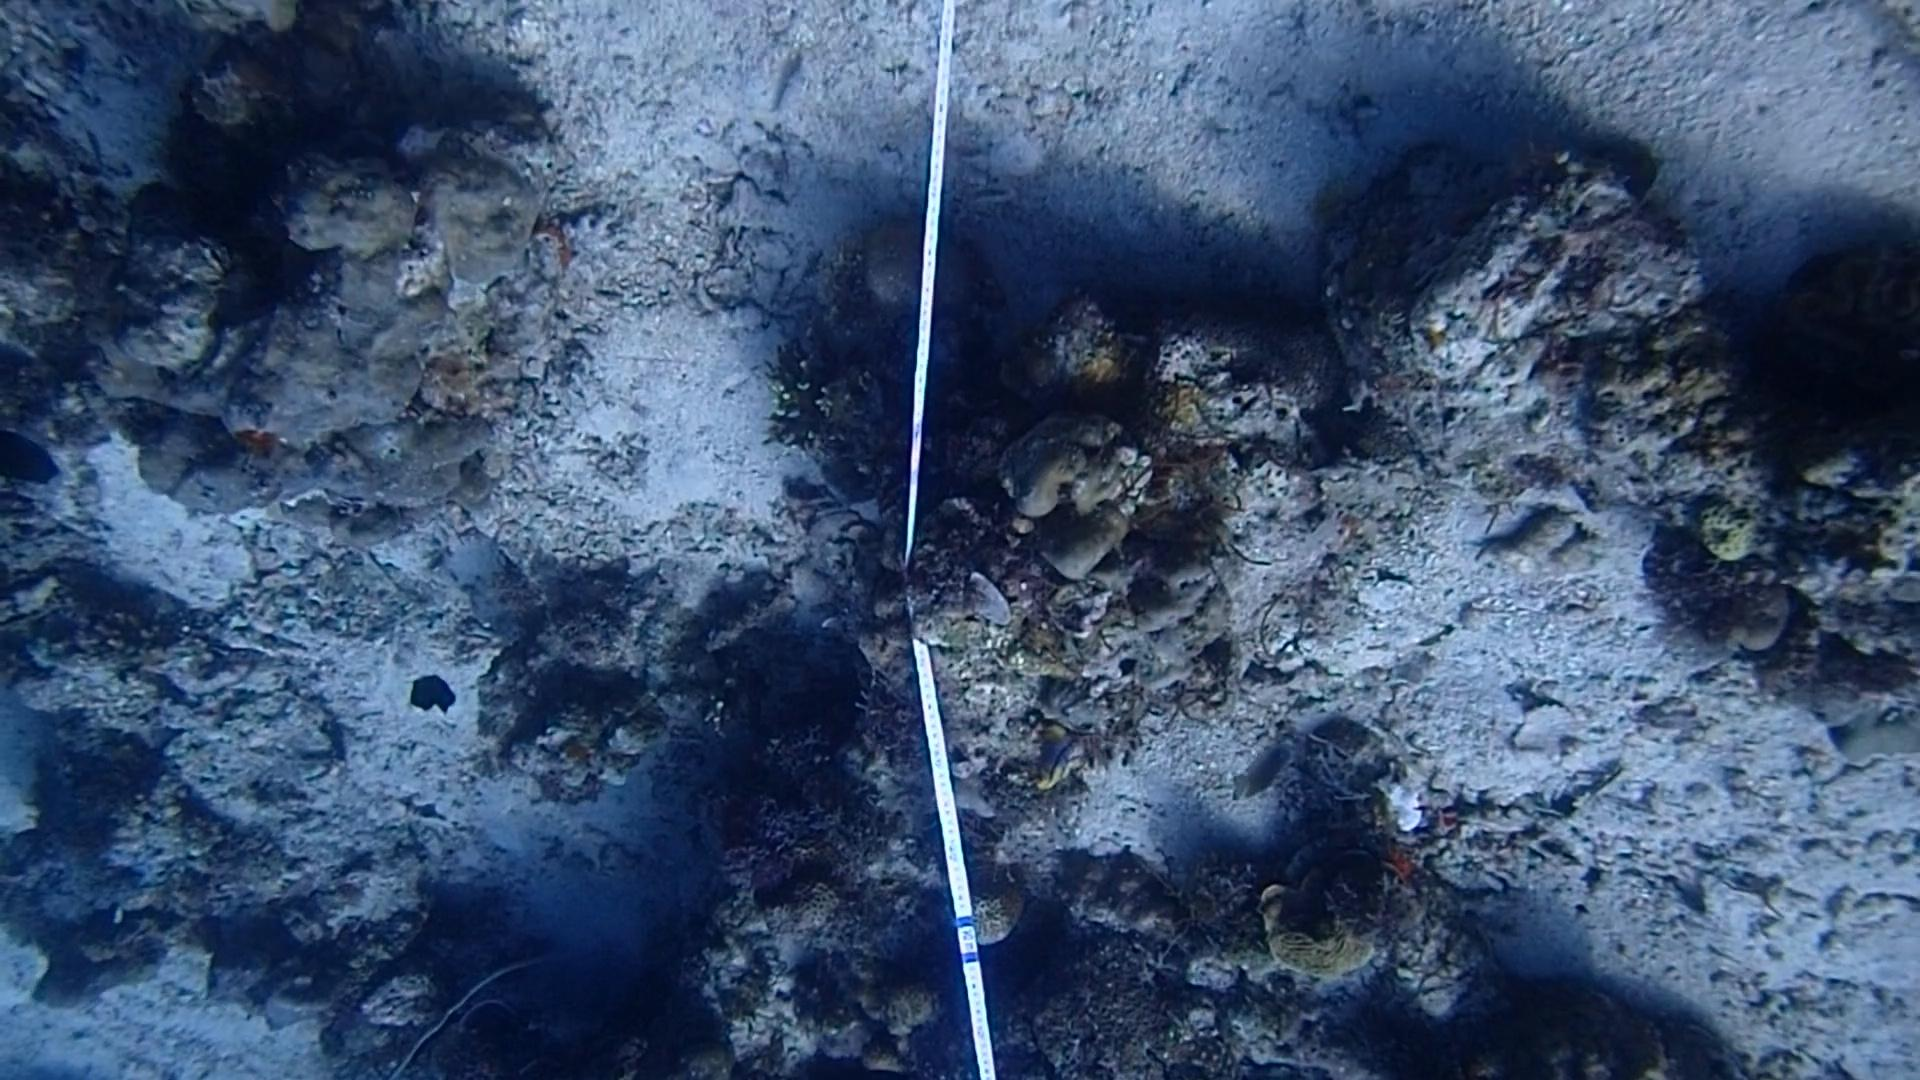Dark Fish: (0, 422, 67, 501), (402, 670, 463, 727)
Light Fish: (1216, 737, 1304, 806)
